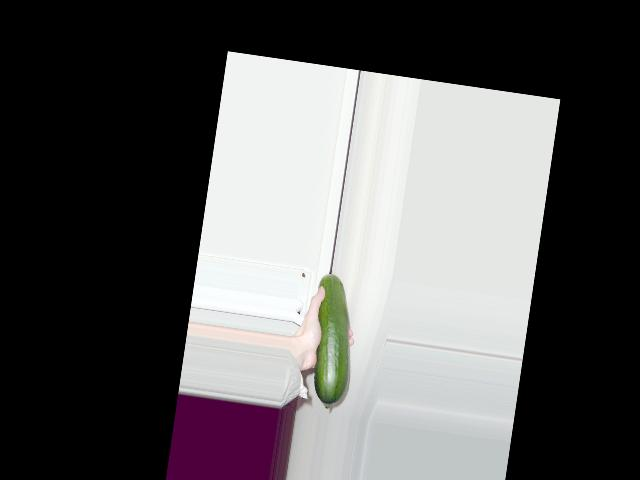cucumber: (301, 272, 364, 411)
